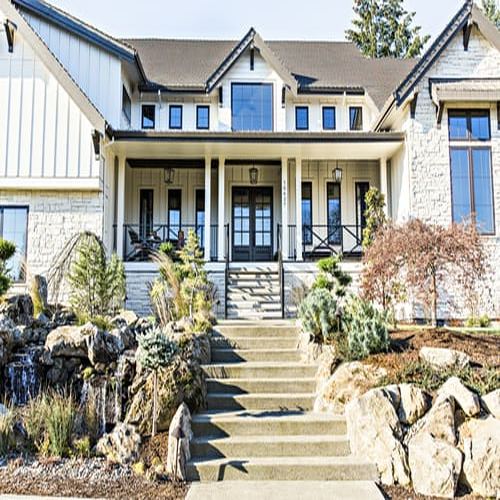Building House: (103, 19, 423, 362)
